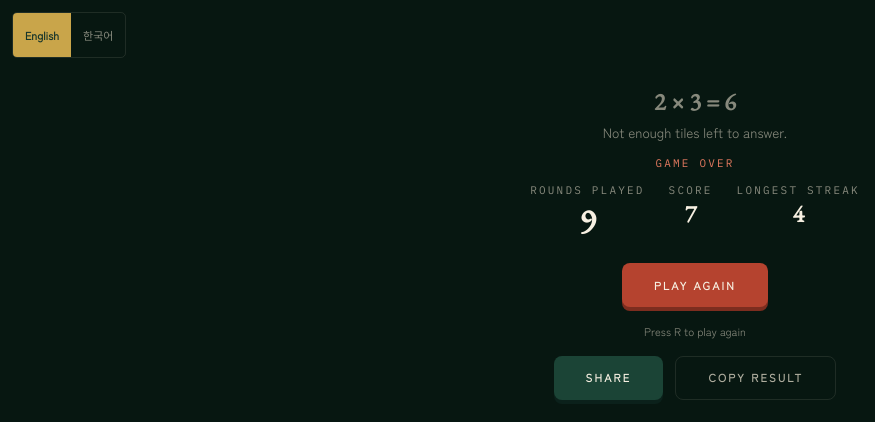
Test: GameOverScreen › names the R shortcut between Play Again and the secondary actions, in either language
The width and height of the screenshot is (875, 422).
Click the button "한국어" at coordinates (98, 35), box [71,13,125,57]
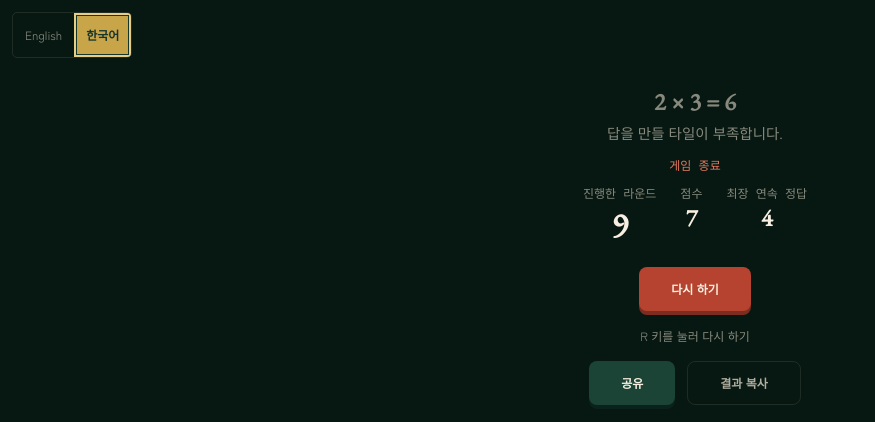
Expected: the text "R 키를 눌러 다시 하기" is shown, [640,327,750,345]
